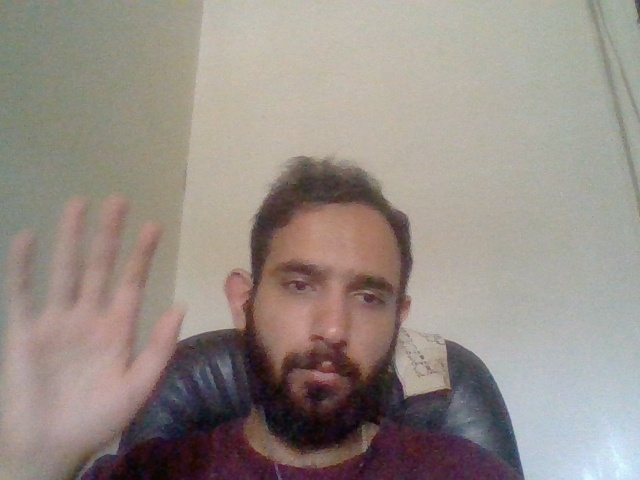Goodbye: (4, 182, 187, 471)
